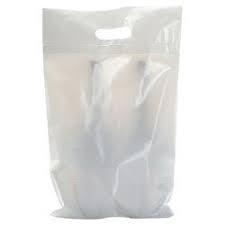Zip plastic bag: (30, 4, 197, 224)
